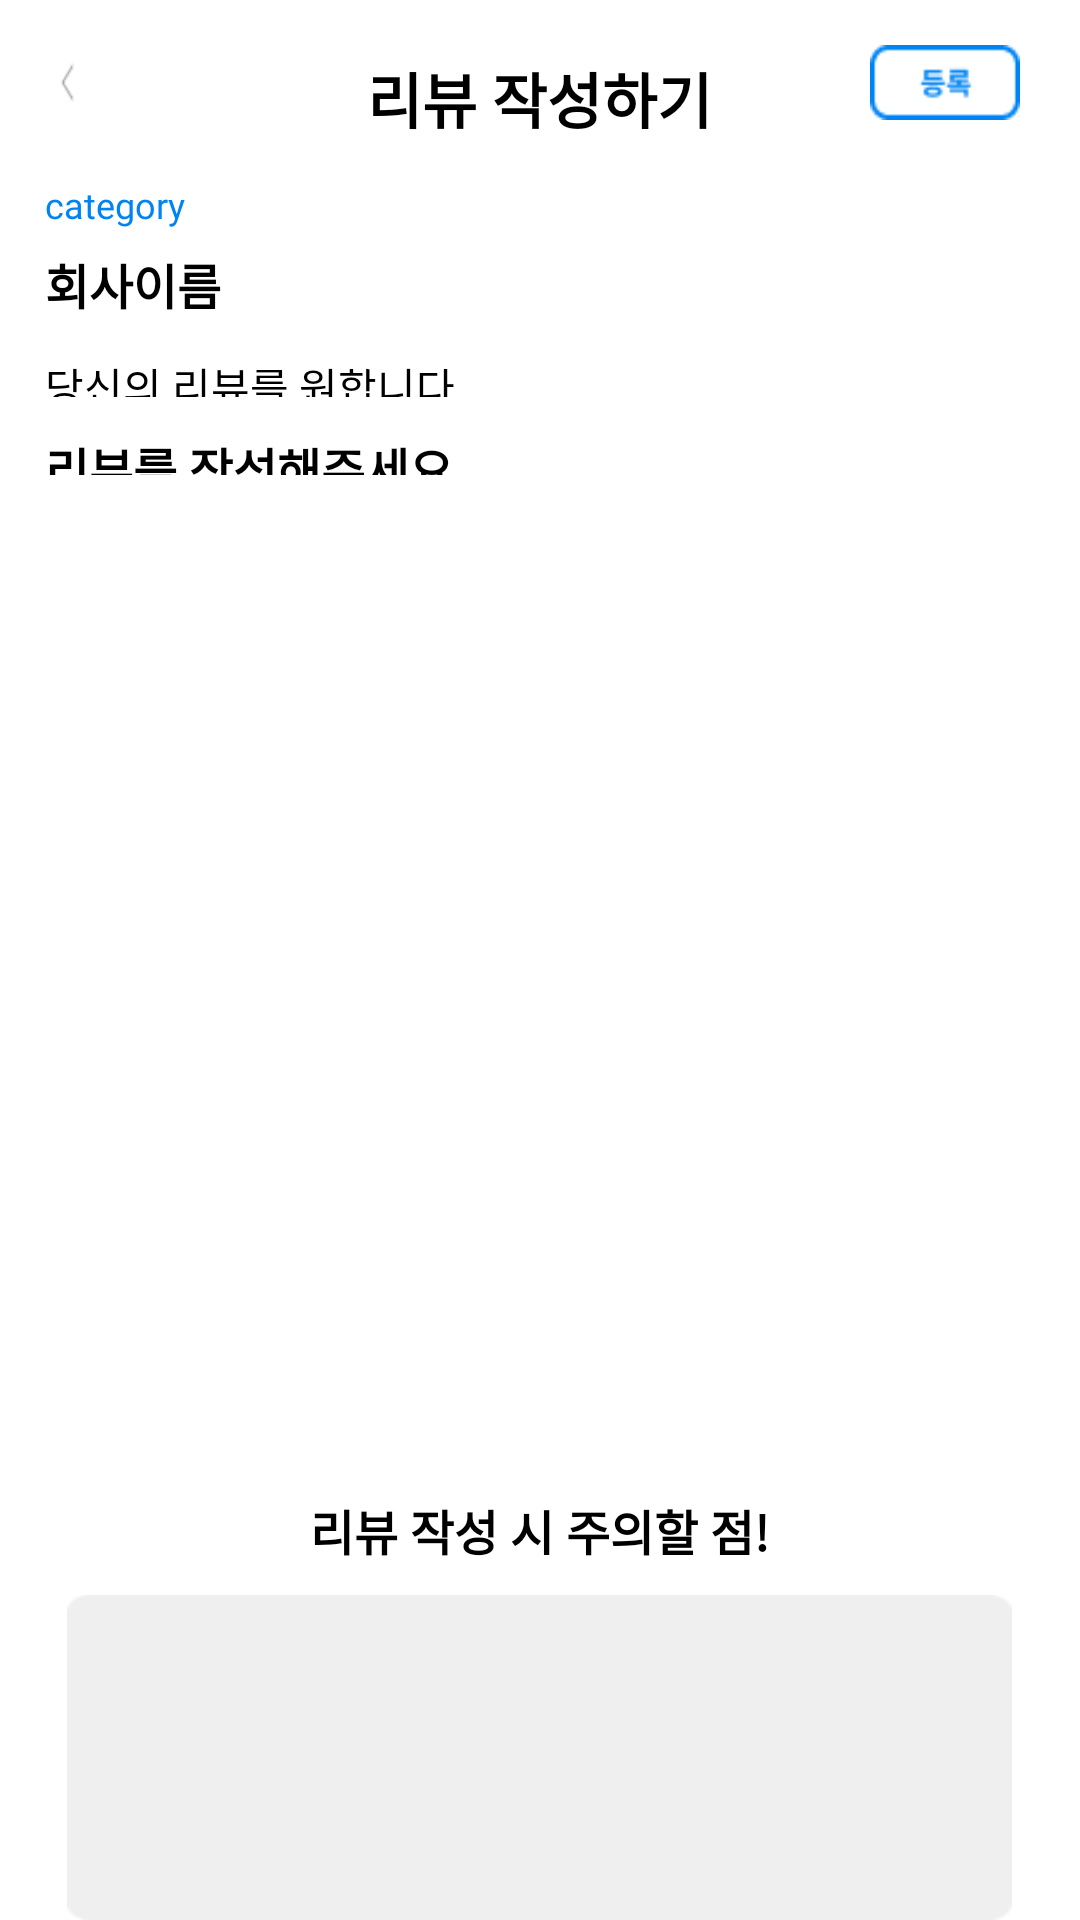

Where to tap for icons on this 1080w x 1920h app screen, as (x,y):
back: (67,82)
